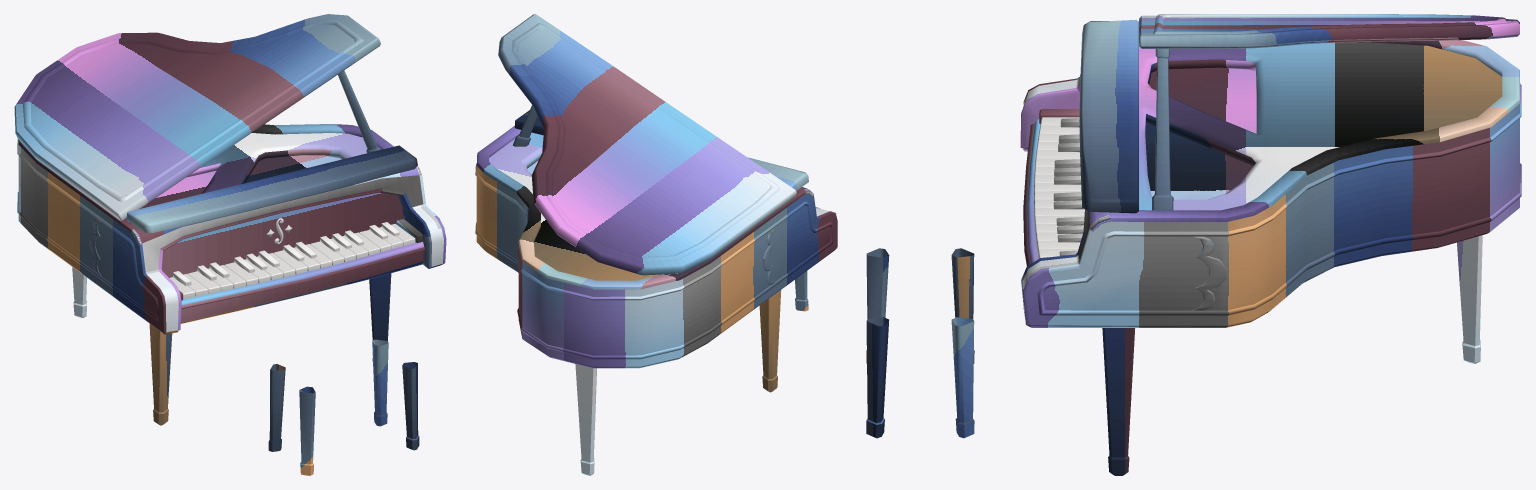
The model's file is Prop_AP23PianoFancy.glb.
3 renders of one model, left to right at view 1: azimuth 30°, elevation 25°; view 2: azimuth 150°, elevation 25°; view 3: azimuth 270°, elevation 25°, orthographic. The views are drawn at different scales.
Parts seen in each view (by area): view 1: Prop_AP23PianoFancy; view 2: Prop_AP23PianoFancy; view 3: Prop_AP23PianoFancy.
Boxes of the visible parts, x1,y1,x2,y2 form: Prop_AP23PianoFancy: [14, 14, 446, 475]; Prop_AP23PianoFancy: [475, 14, 837, 475]; Prop_AP23PianoFancy: [866, 14, 1521, 475].
Bounding box in the file's own units: 1.27 × 1.37 × 1.84.
Materials: 1 (1 with a texture image).
